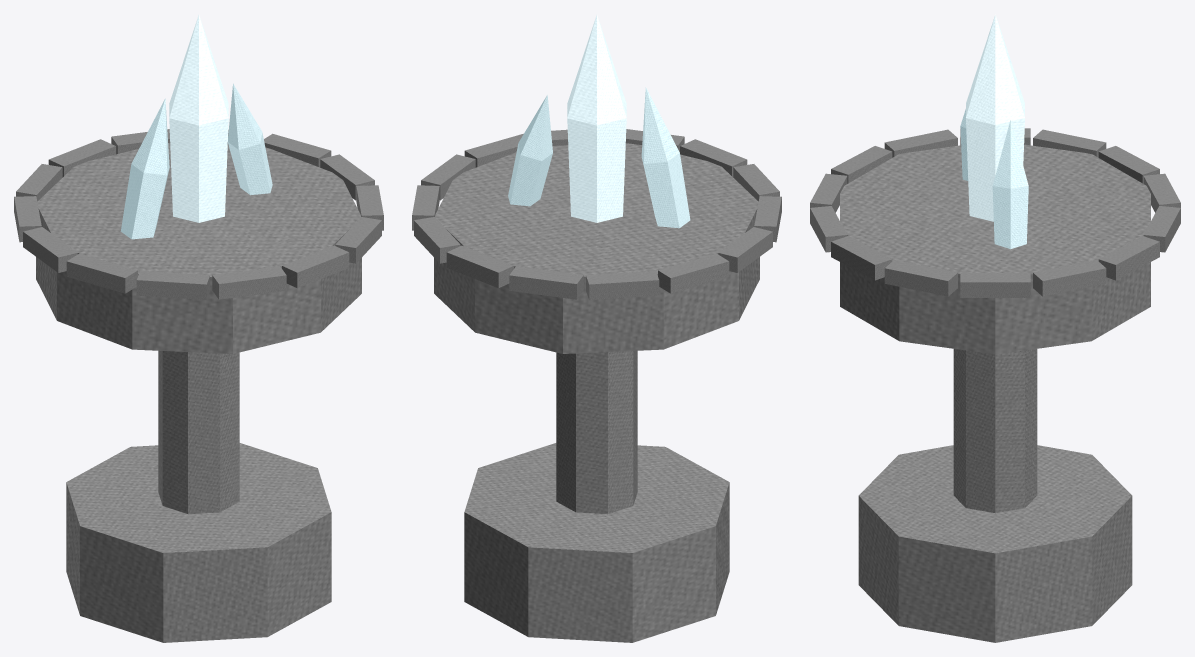
File: crystal-brazier.glb
3 views of the same model, side by side, from view 1: azimuth 30°, elevation 25°; view 2: azimuth 150°, elevation 25°; view 3: azimuth 270°, elevation 25° (orthographic).
Parts seen in each view (by area): view 1: foot, bowl, stem, center-crystal, left-crystal, right-crystal, bowl-rim-4, bowl-rim-5, bowl-rim-6, bowl-rim-3, bowl-rim-7, bowl-rim-2 (+7 smaller); view 2: foot, bowl, stem, center-crystal, left-crystal, right-crystal, bowl-rim-10, bowl-rim-9, bowl-rim-8, bowl-rim-11, bowl-rim-7, bowl-rim-12 (+6 smaller); view 3: bowl, foot, stem, center-crystal, right-crystal, bowl-rim-1, bowl-rim-13, bowl-rim-0, bowl-rim-2, bowl-rim-12, bowl-rim-6, bowl-rim-8 (+6 smaller).
Part boxes in pixels (bbox=[...]): foot: bbox=[66, 443, 331, 642]; bowl: bbox=[36, 143, 361, 353]; stem: bbox=[158, 350, 239, 514]; center-crystal: bbox=[169, 15, 228, 222]; left-crystal: bbox=[120, 98, 169, 239]; right-crystal: bbox=[228, 83, 272, 195]; bowl-rim-4: bbox=[212, 266, 286, 299]; bowl-rim-5: bbox=[136, 270, 209, 299]; bowl-rim-6: bbox=[66, 253, 137, 293]; bowl-rim-3: bbox=[282, 245, 349, 288]; bowl-rim-7: bbox=[23, 227, 77, 272]; bowl-rim-2: bbox=[335, 217, 381, 263]; foot: bbox=[464, 443, 729, 642]; bowl: bbox=[434, 143, 759, 353]; stem: bbox=[556, 350, 637, 514]; center-crystal: bbox=[567, 15, 626, 222]; left-crystal: bbox=[641, 87, 690, 228]; right-crystal: bbox=[508, 95, 552, 206]; bowl-rim-10: bbox=[509, 266, 583, 299]; bowl-rim-9: bbox=[586, 270, 659, 299]; bowl-rim-8: bbox=[658, 253, 729, 293]; bowl-rim-11: bbox=[446, 245, 513, 288]; bowl-rim-7: bbox=[718, 227, 772, 272]; bowl-rim-12: bbox=[414, 217, 460, 263]; bowl: bbox=[840, 144, 1150, 354]; foot: bbox=[858, 445, 1132, 642]; stem: bbox=[953, 349, 1037, 513]; center-crystal: bbox=[966, 14, 1024, 221]; right-crystal: bbox=[992, 120, 1028, 249]; bowl-rim-1: bbox=[884, 260, 957, 296]; bowl-rim-13: bbox=[1033, 260, 1106, 296]; bowl-rim-0: bbox=[960, 273, 1030, 297]; bowl-rim-2: bbox=[831, 236, 892, 280]; bowl-rim-12: bbox=[1098, 236, 1159, 280]; bowl-rim-6: bbox=[884, 129, 957, 157]; bowl-rim-8: bbox=[1033, 129, 1106, 157].
Size of the model in its own units: 0.9585 by 1.66 by 0.9758.
Materials: 5 (5 with a texture image).
